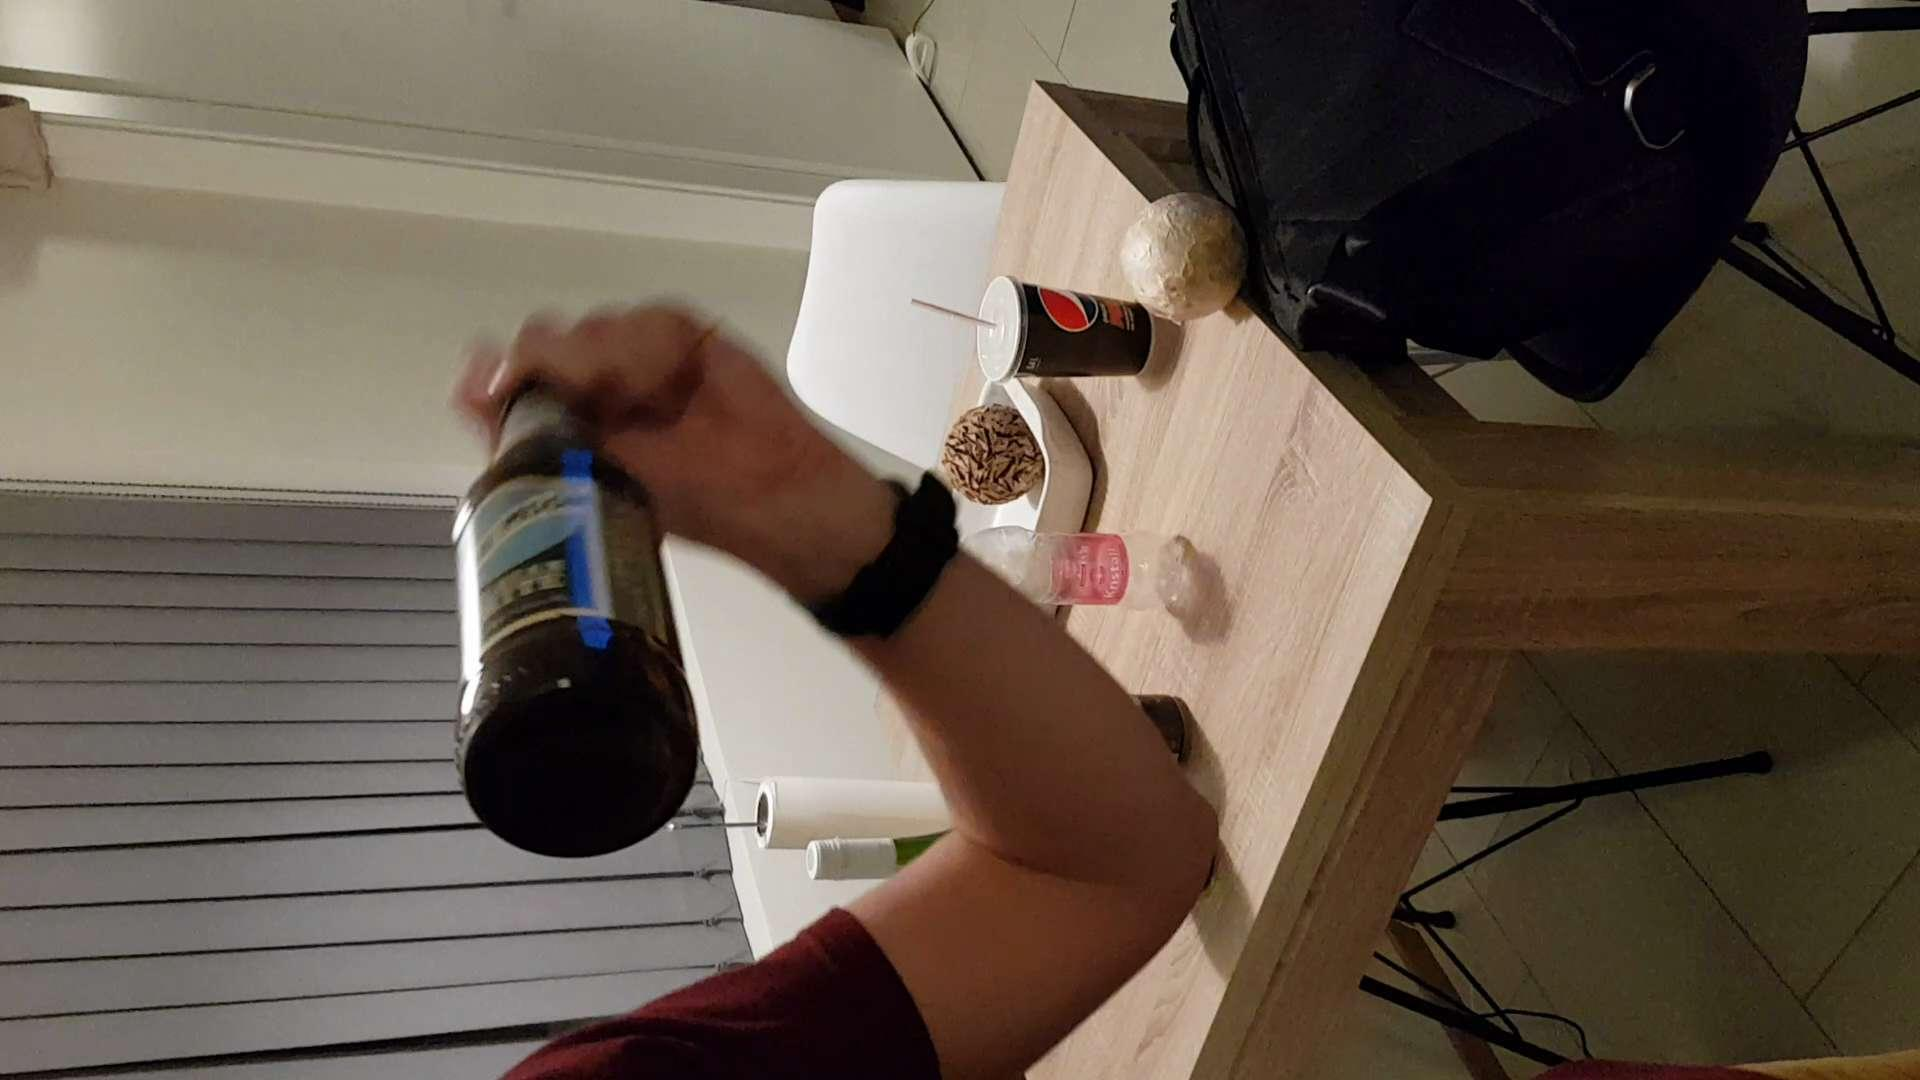Bottle: (435, 363, 696, 851)
Sphere: (1102, 187, 1266, 324), (922, 405, 1065, 512)
